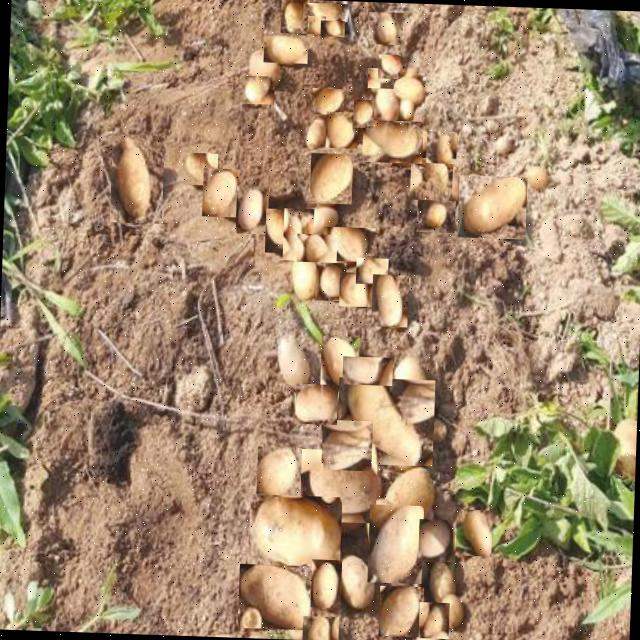Damaged potato: (110, 134, 164, 224), (320, 419, 372, 471), (410, 157, 452, 200), (284, 601, 312, 640)
Potato: (336, 377, 435, 466), (248, 494, 342, 568), (299, 448, 377, 523), (238, 563, 314, 630), (366, 504, 424, 584), (457, 175, 527, 239), (379, 466, 439, 526), (388, 354, 436, 420), (266, 329, 314, 389), (362, 120, 423, 164), (378, 585, 424, 637), (337, 554, 379, 609), (256, 446, 302, 496), (309, 153, 353, 204), (320, 335, 360, 386), (284, 249, 323, 300), (371, 274, 408, 327), (322, 226, 375, 262), (202, 168, 240, 217), (454, 509, 492, 556), (294, 384, 338, 424), (235, 185, 269, 234), (282, 208, 314, 260), (310, 559, 342, 608), (418, 518, 453, 562), (342, 356, 393, 386), (241, 50, 285, 84), (263, 34, 308, 64), (264, 208, 292, 253), (416, 200, 455, 232), (338, 272, 374, 306), (325, 111, 358, 148), (315, 262, 346, 301), (388, 72, 429, 101), (428, 561, 458, 600), (296, 234, 337, 262), (418, 602, 449, 638), (185, 152, 218, 185), (368, 12, 402, 44), (372, 84, 399, 124), (440, 588, 466, 628), (426, 130, 456, 163), (302, 2, 350, 22), (280, 0, 309, 33), (242, 75, 274, 104), (301, 615, 338, 640), (304, 113, 328, 151), (405, 123, 436, 152), (355, 258, 388, 284), (311, 88, 344, 114), (309, 205, 338, 232), (522, 162, 554, 186), (352, 99, 373, 128), (367, 68, 394, 88), (378, 54, 400, 78), (320, 19, 344, 36), (307, 15, 326, 34), (401, 93, 416, 117)
